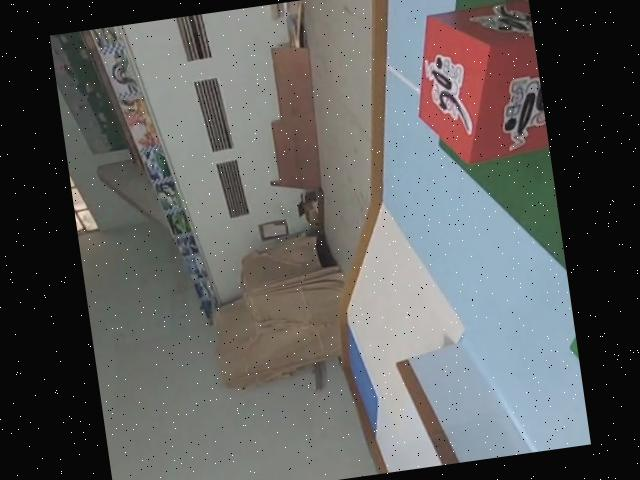R1: (403, 0, 549, 167)
